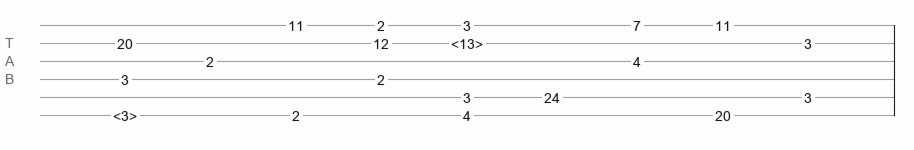11: (288, 18, 304, 28), (715, 18, 731, 28)
12: (373, 36, 389, 46)
2: (206, 54, 214, 64), (292, 108, 300, 118), (377, 18, 385, 28), (377, 72, 385, 82)
20: (117, 36, 133, 46), (715, 108, 731, 118)
24: (544, 90, 560, 100)
3: (121, 72, 129, 82), (463, 90, 471, 100), (463, 18, 471, 28), (804, 36, 812, 46), (804, 90, 812, 100)
4: (463, 108, 471, 118), (633, 54, 641, 64)
7: (633, 18, 641, 28)
harmonic: (451, 36, 483, 46), (113, 108, 137, 118)
